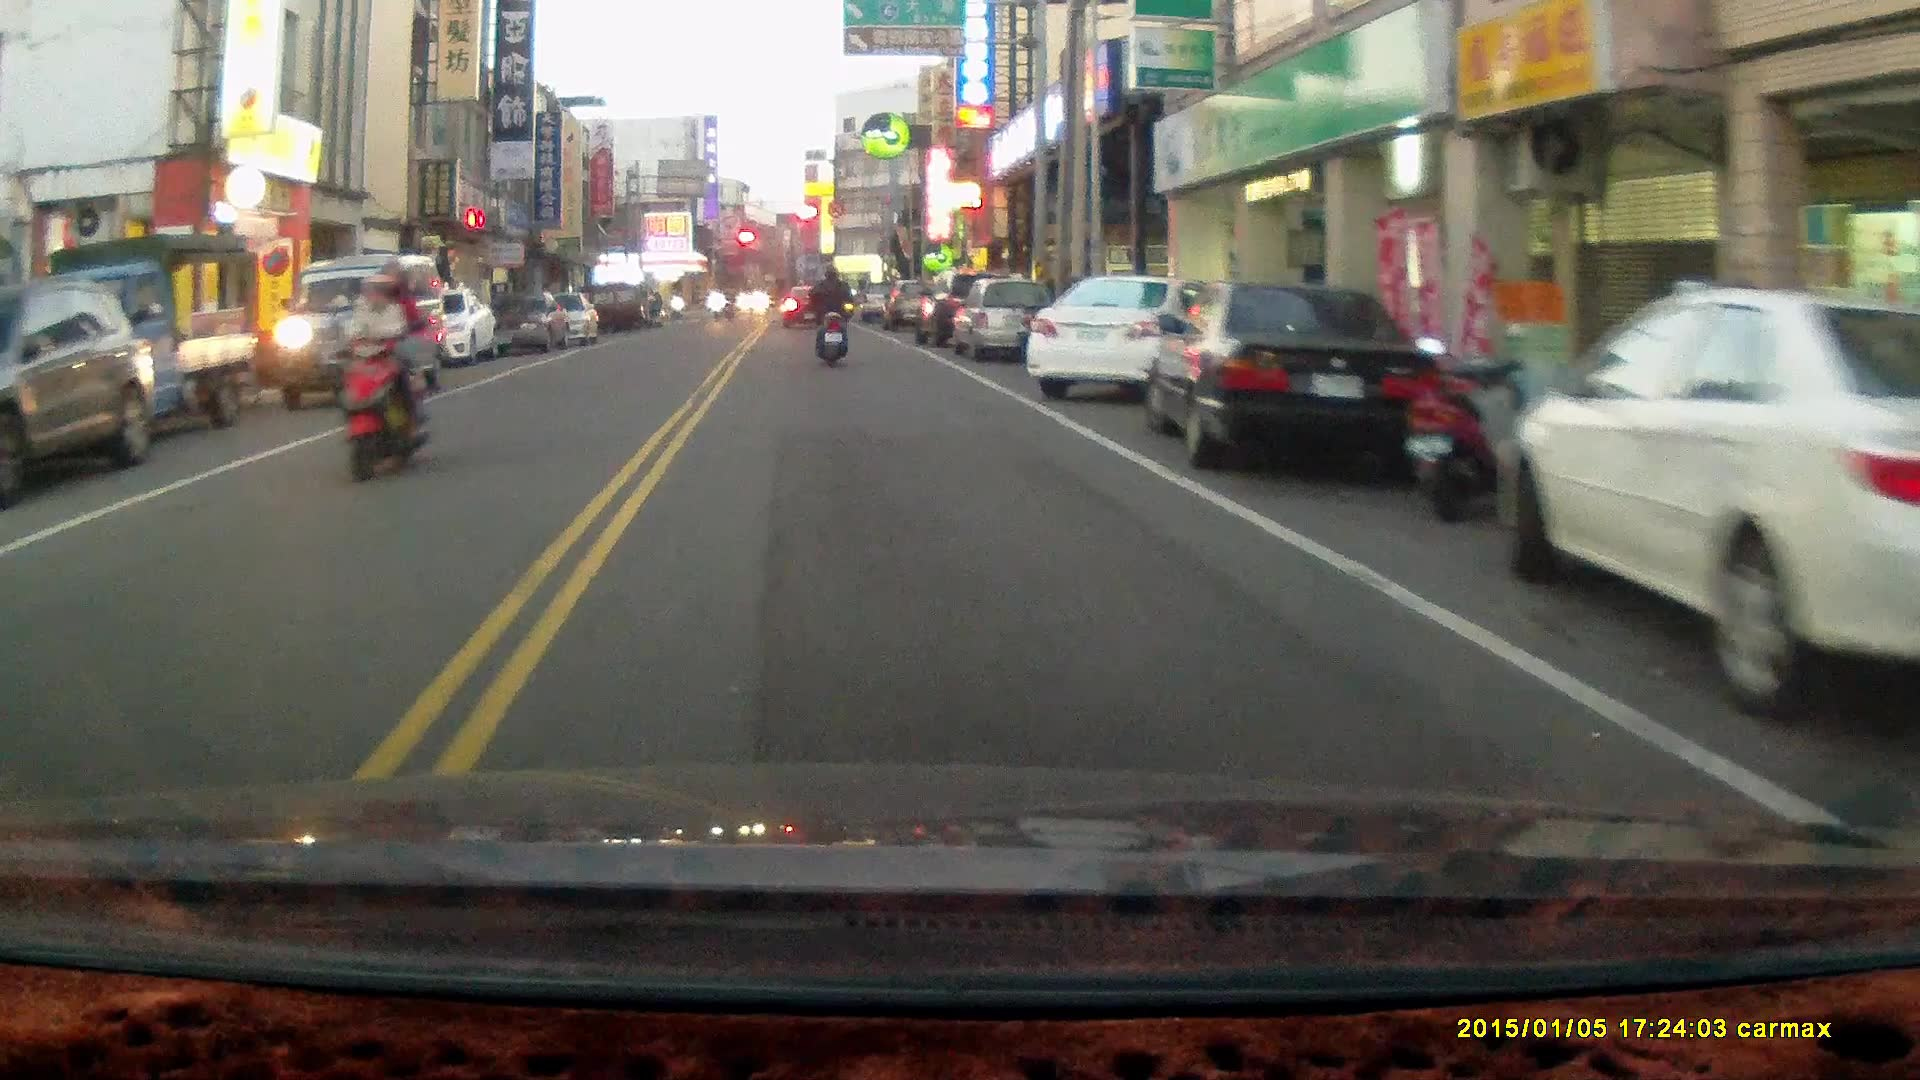rider: (334, 255, 433, 485), (806, 262, 853, 370)
vehicle: (1516, 290, 1920, 737), (1144, 279, 1441, 472), (31, 241, 272, 461), (1, 281, 165, 504), (1025, 273, 1218, 406), (279, 257, 442, 405), (955, 280, 1062, 370)
